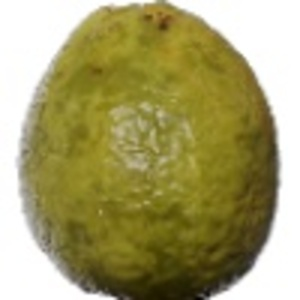goiaba: (7, 2, 286, 296)
